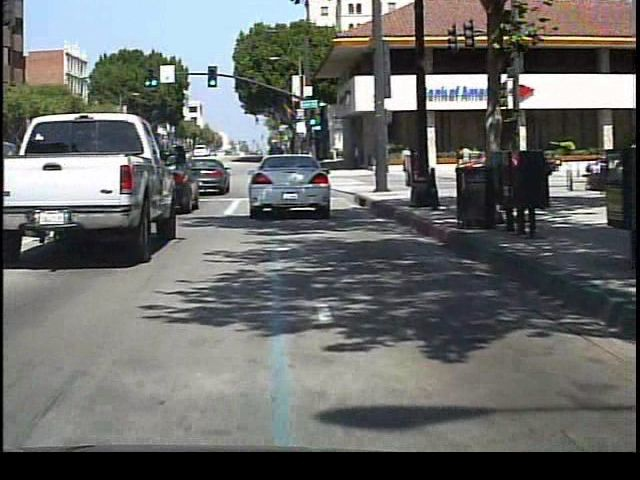person: (455, 139, 474, 175), (398, 143, 416, 177)
